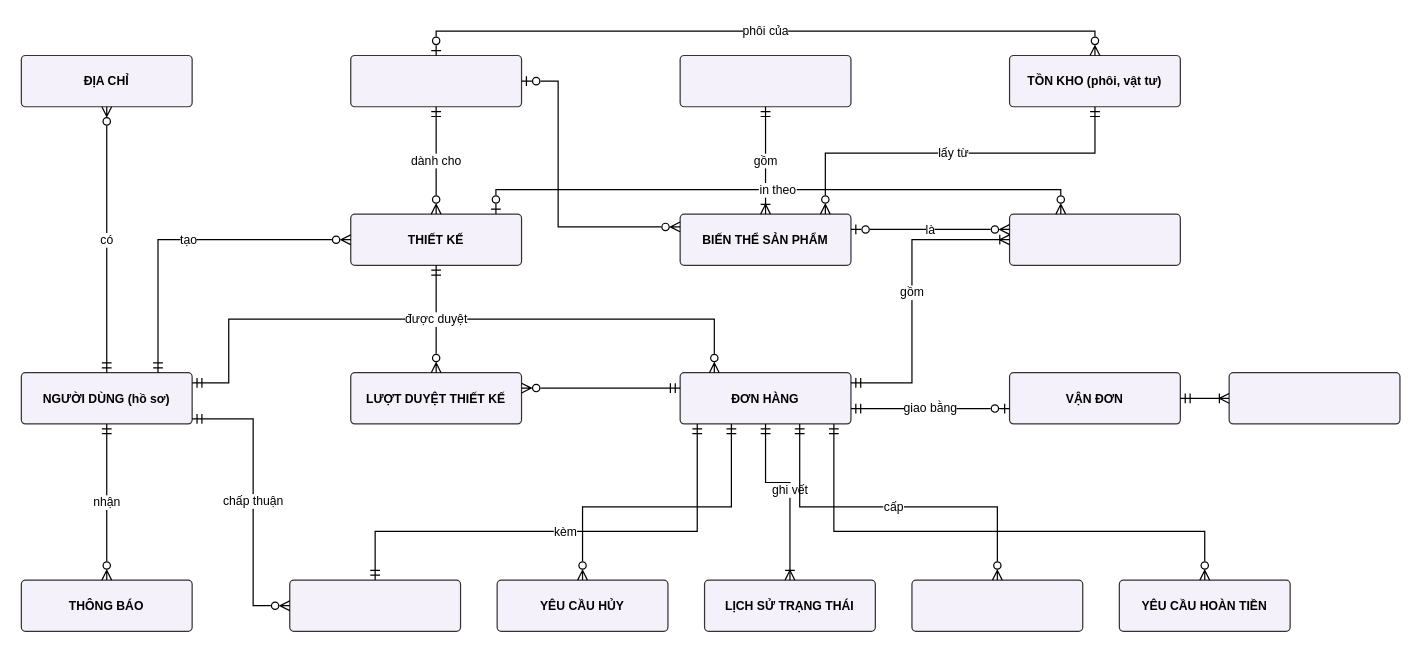
Some shapes in this 1421 by 653 pixel diagram are drawn without their labels. The box of each missing label's shape, as (x1, y1, x2, y2) in pixels:
DÒNG MÁY: (350, 54, 522, 107)
DÒNG ĐƠN HÀNG: (1008, 213, 1180, 265)
LẦN GIAO: (1228, 371, 1400, 424)
SẢN PHẨM: (679, 54, 851, 107)
VOUCHER ĐƠN: (911, 579, 1083, 631)
ĐỒNG Ý CHÍNH SÁCH: (289, 579, 461, 631)
